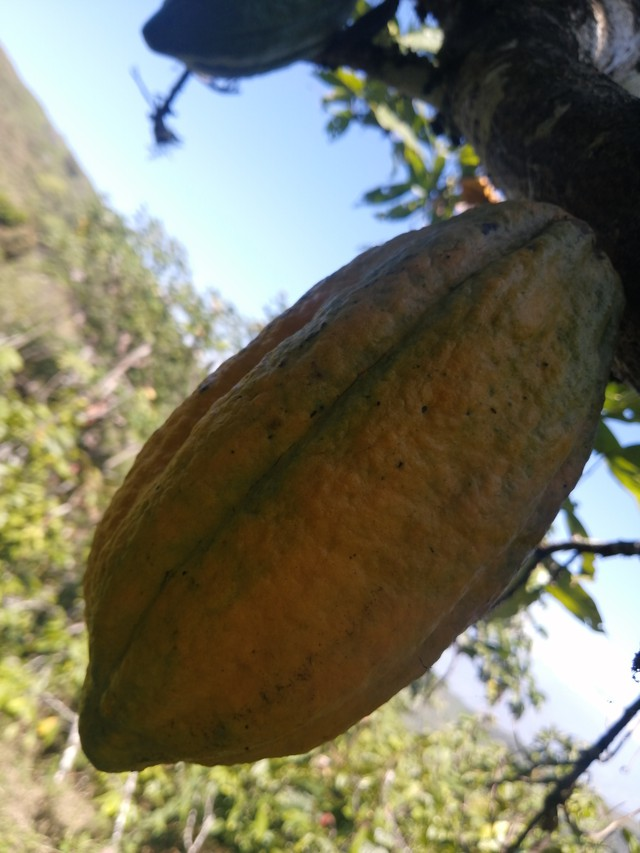Health: (48, 175, 631, 793)
